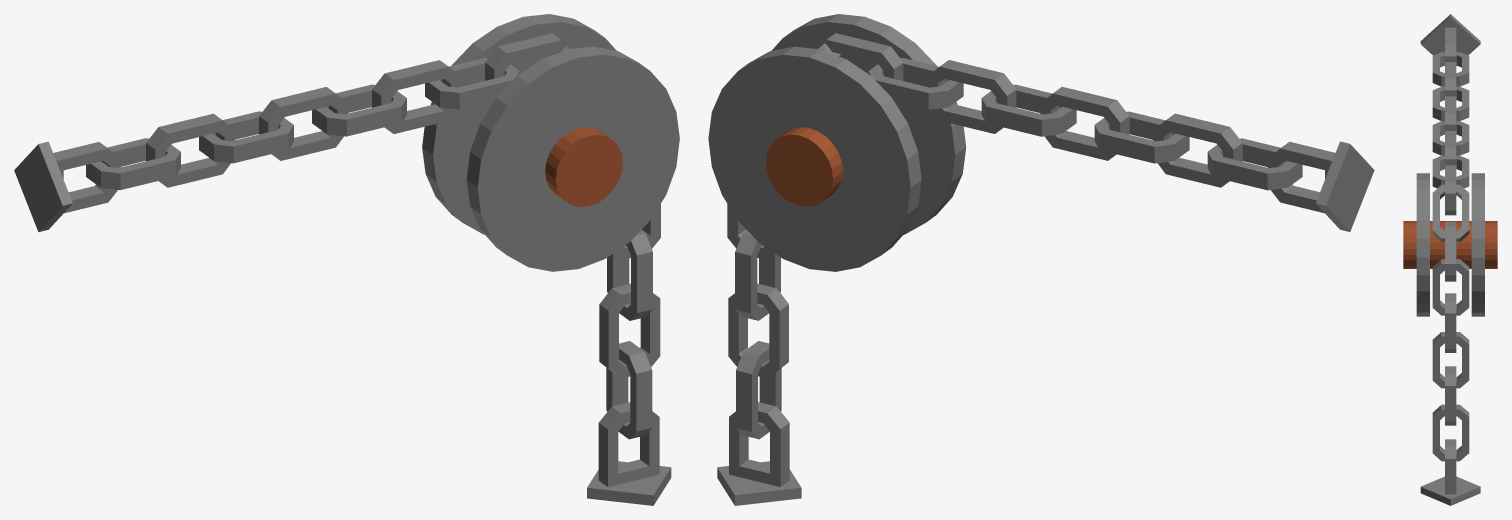
The model's file is Prop_Fantasy_Dungeon_Industrial_Pulley_Chain_Metal_01.FBX.
3 renders of one model, left to right at view 1: azimuth 30°, elevation 25°; view 2: azimuth 150°, elevation 25°; view 3: azimuth 270°, elevation 25°, orthographic. The views are drawn at different scales.
Visible parts, largest first — view 1: Prop_Fantasy_Dungeon_Industrial_Pulley_Chain_Metal_01; view 2: Prop_Fantasy_Dungeon_Industrial_Pulley_Chain_Metal_01; view 3: Prop_Fantasy_Dungeon_Industrial_Pulley_Chain_Metal_01.
Part boxes in pixels (x1,y1,x2,y2): Prop_Fantasy_Dungeon_Industrial_Pulley_Chain_Metal_01: (14,14,679,505); Prop_Fantasy_Dungeon_Industrial_Pulley_Chain_Metal_01: (708,14,1374,505); Prop_Fantasy_Dungeon_Industrial_Pulley_Chain_Metal_01: (1403,14,1497,505).
Size of the model in its own units: 6968 by 5138 by 1455.
